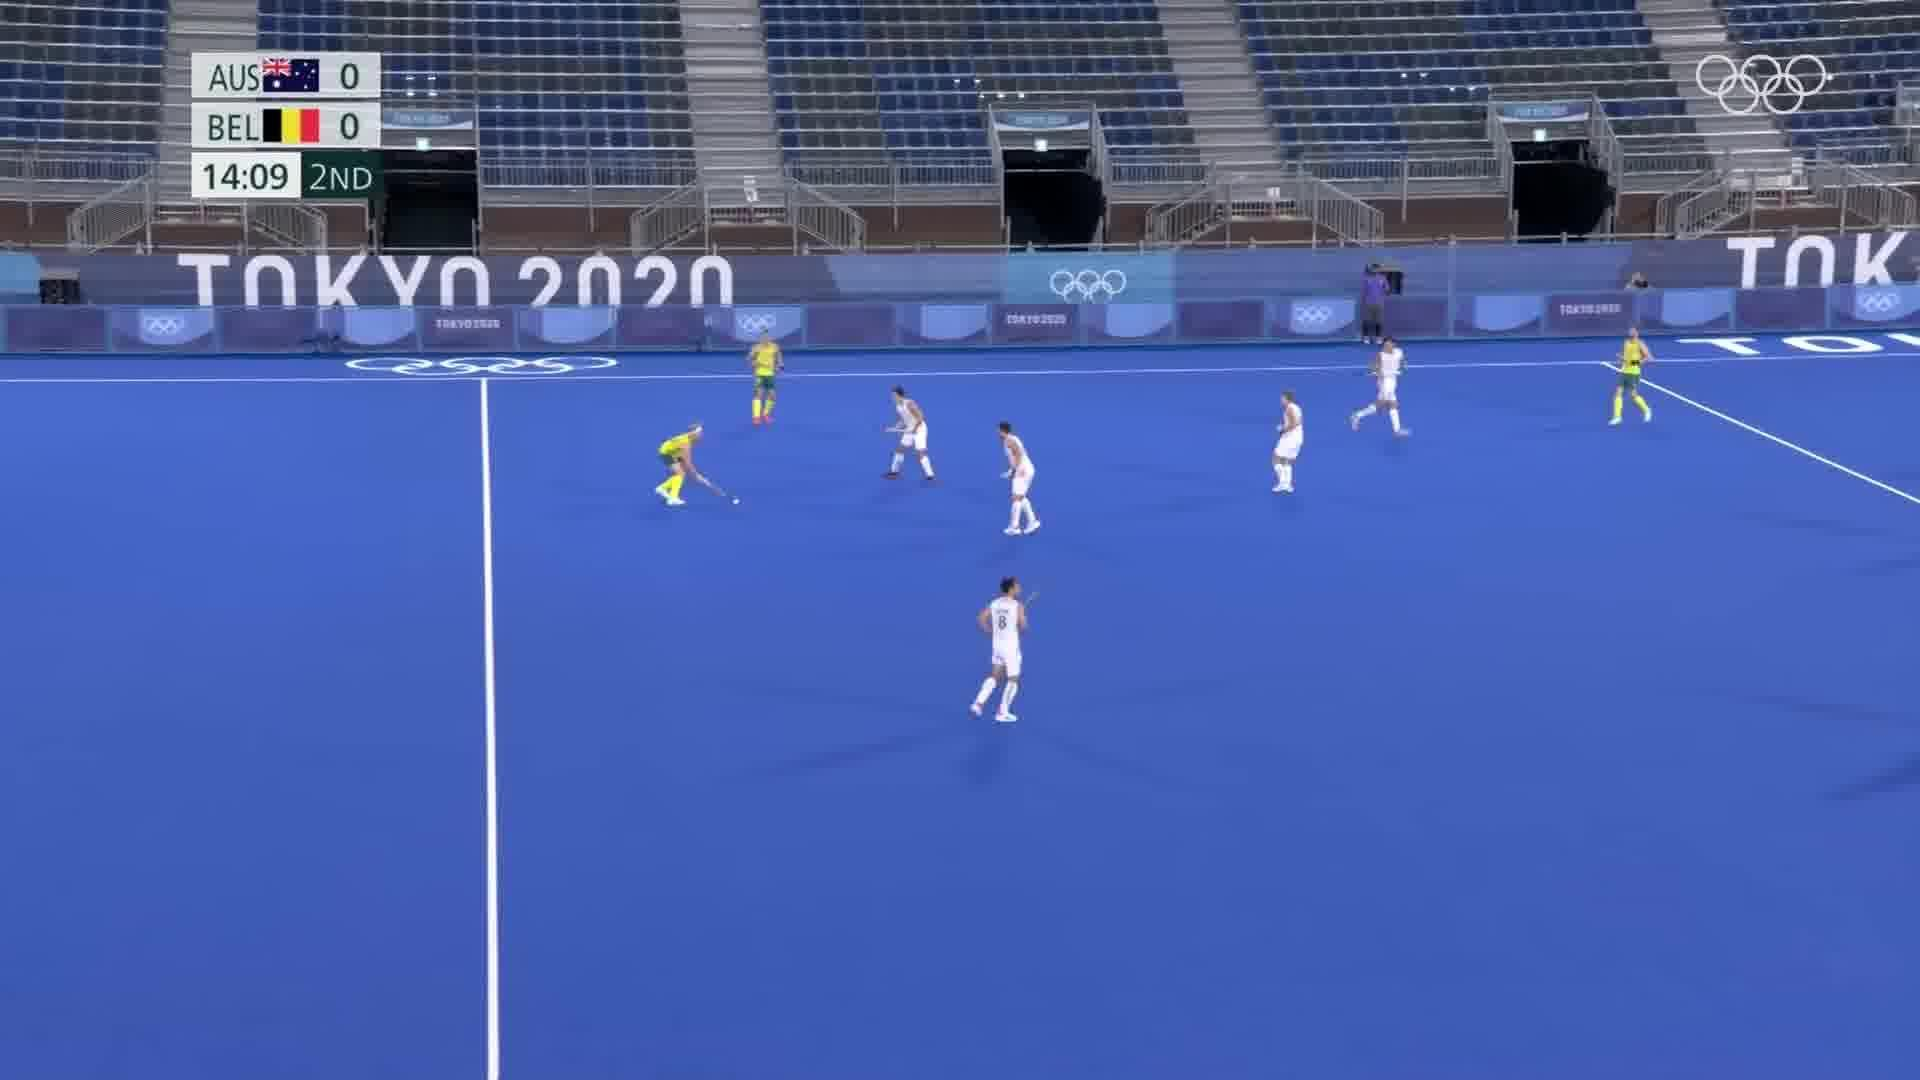ball: (725, 495, 746, 509)
